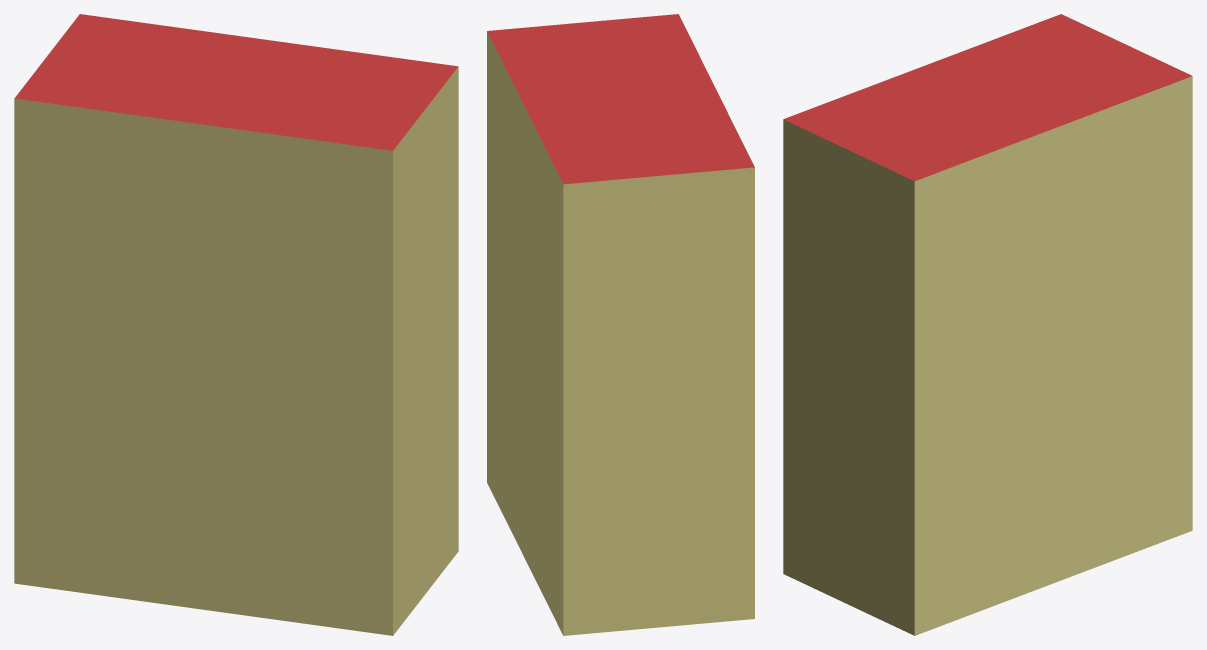
The picture shows the model from 3 angles, left to right: view 1: azimuth 30°, elevation 25°; view 2: azimuth 150°, elevation 25°; view 3: azimuth 270°, elevation 25°; orthographic projection. The views are drawn at different scales.
Parts seen in each view (by area): view 1: group_4, group_3; view 2: group_4, group_3; view 3: group_4, group_3.
Boxes of the visible parts, x1,y1,x2,y2 form: group_4: (14, 66, 458, 635); group_3: (14, 14, 458, 150); group_4: (487, 31, 754, 635); group_3: (487, 14, 754, 184); group_4: (783, 76, 1192, 635); group_3: (783, 14, 1191, 181).
Bounding box in the file's own units: 8.48 × 8.77 × 10.74.
